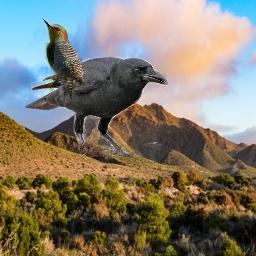Crow: (24, 57, 168, 157)
Woodpecker: (42, 18, 83, 99)
